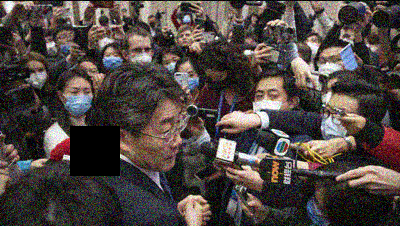mask_weared_incorrect: (58, 29, 76, 52)
with_mask: (319, 103, 354, 142), (252, 86, 289, 121), (306, 183, 333, 225), (63, 85, 94, 118), (25, 64, 49, 91), (317, 54, 344, 77), (178, 69, 201, 93), (206, 74, 233, 93), (128, 45, 152, 64), (303, 36, 320, 59), (103, 50, 124, 68), (161, 56, 181, 74), (320, 86, 335, 107), (45, 37, 60, 56), (98, 34, 116, 49), (342, 32, 355, 47), (182, 14, 192, 24), (148, 18, 157, 27), (228, 10, 234, 17)
without_mask: (129, 106, 185, 172), (78, 65, 100, 85), (179, 31, 193, 47)
